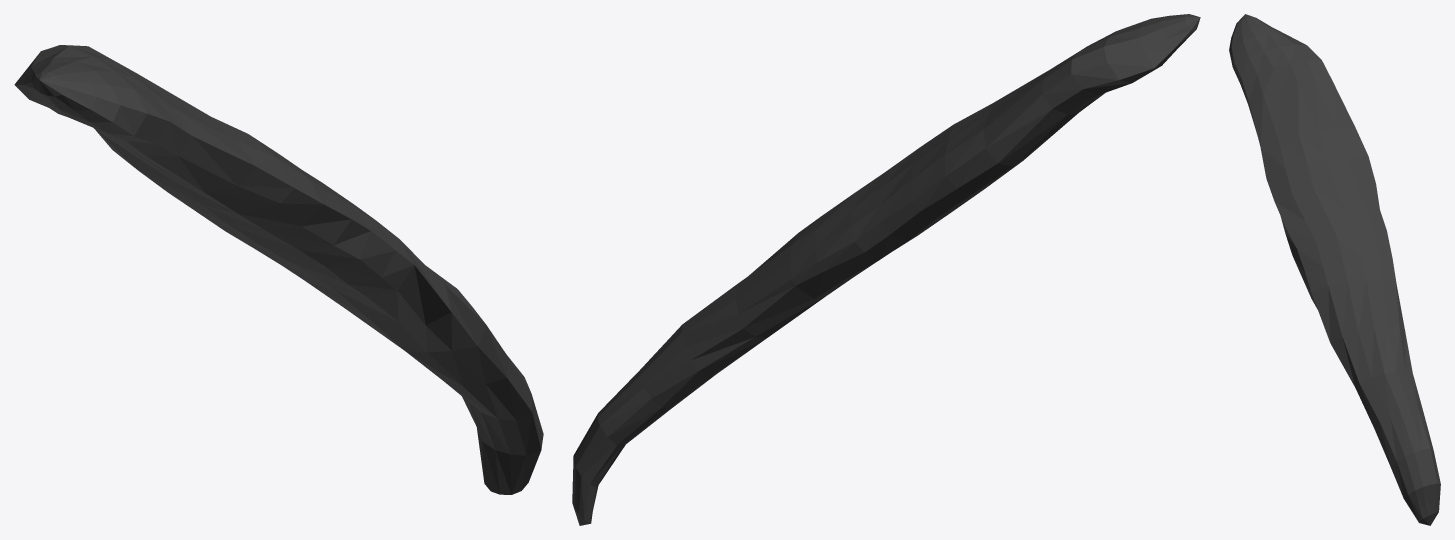
File: Piriformis.glb
3 renders of one model, left to right at view 1: azimuth 30°, elevation 25°; view 2: azimuth 150°, elevation 25°; view 3: azimuth 270°, elevation 25°, orthographic. The views are drawn at different scales.
Parts seen in each view (by area): view 1: Piriformis; view 2: Piriformis; view 3: Piriformis.
Boxes of the visible parts, box(x1,y1,x2,y2) form: Piriformis: box(14, 45, 543, 494); Piriformis: box(572, 14, 1200, 525); Piriformis: box(1229, 14, 1440, 525).
Bounding box in the file's own units: 2.63 × 2.66 × 1.44.
Materials: 1 (1 with a texture image).
